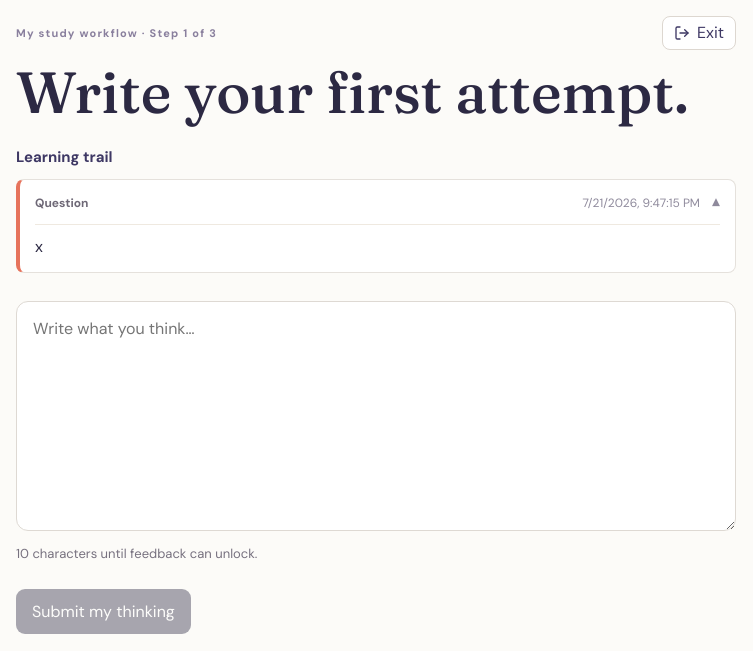
SessionShell › runs a saved custom workflow through the same gate → feedback → final-answer sequence
Expected: the button "Submit my thinking" is disabled, top-left (16, 589), bottom-right (191, 634)
Type "a real first attempt" into the text box with placeholder "Write what you think…" at (376, 416), box top-left (16, 301), bottom-right (736, 531)
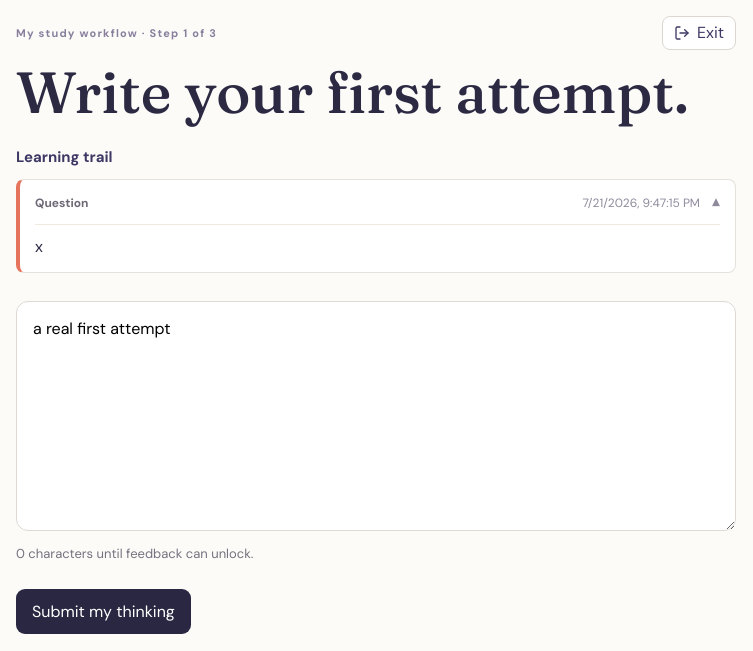
Now the button "Submit my thinking" is enabled, box top-left (16, 589), bottom-right (191, 634)
